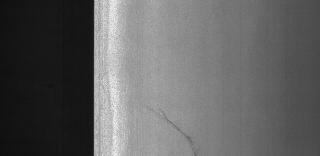water spot: (144, 102, 206, 156)
